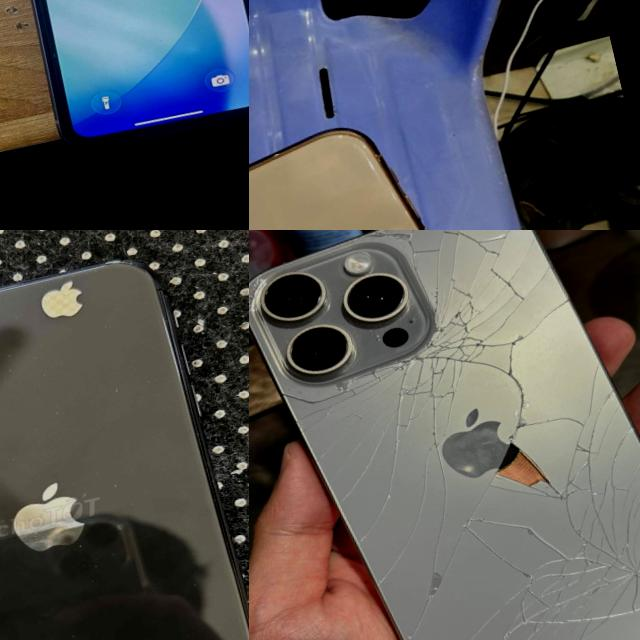gen_11: (0, 234, 249, 640), (0, 0, 249, 164)
gen_12_13: (249, 230, 640, 640)
physical_damage: (287, 340, 515, 432), (466, 396, 626, 518), (421, 246, 563, 358), (518, 515, 640, 622), (356, 428, 465, 538), (394, 535, 484, 629), (388, 230, 530, 278), (468, 506, 527, 562), (249, 271, 285, 316)
